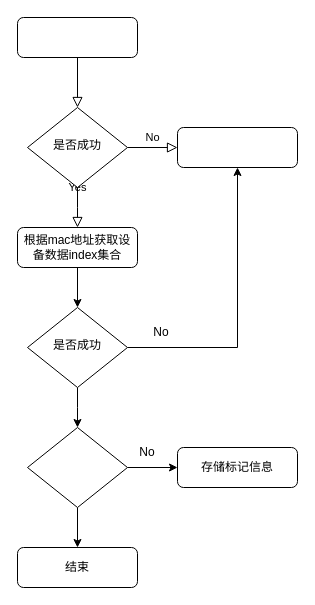
The diagram is 315 pixels wide and 605 high, and some of its shapes have lost their labels. Each missing label, with the centre of its shape:
"判断index是否连续" belongs at [77,467].
"获取待扫描的设备mac" belongs at [77,37].
"返回错误" belongs at [237,147].
